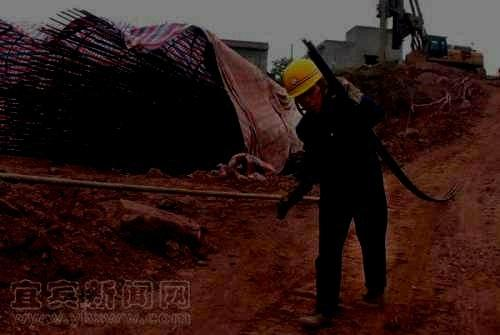helmet: (281, 57, 325, 112)
